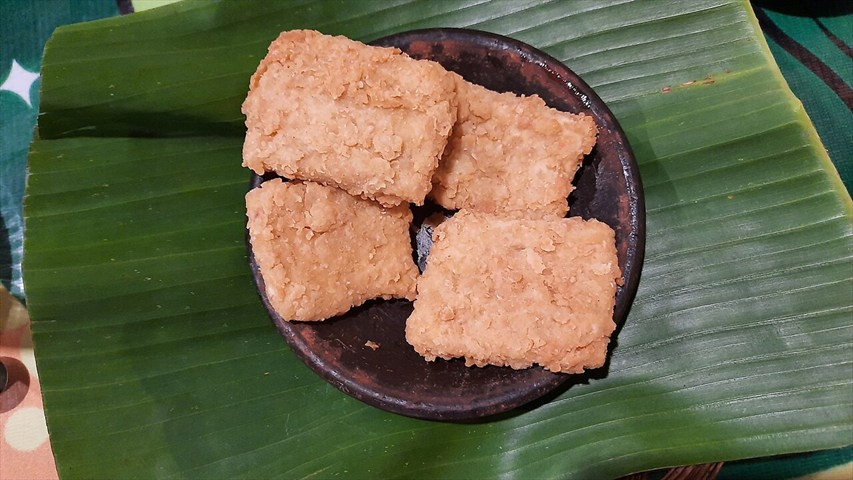Tempe Goreng: (210, 43, 638, 377)
